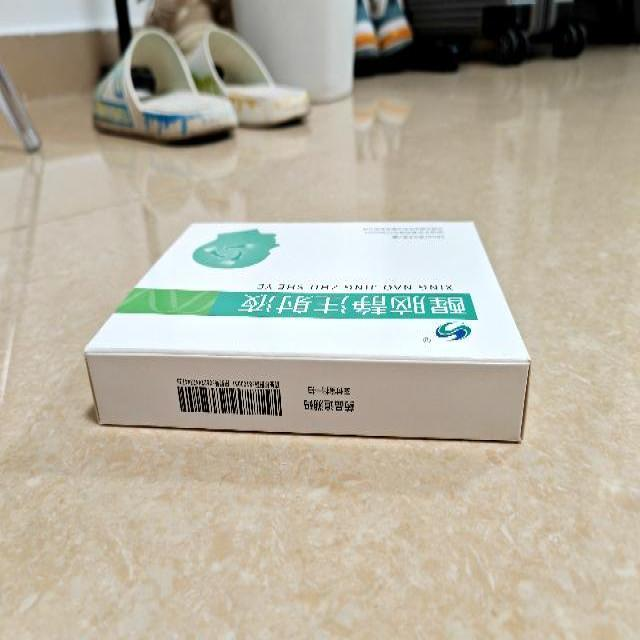box: (83, 219, 529, 442)
